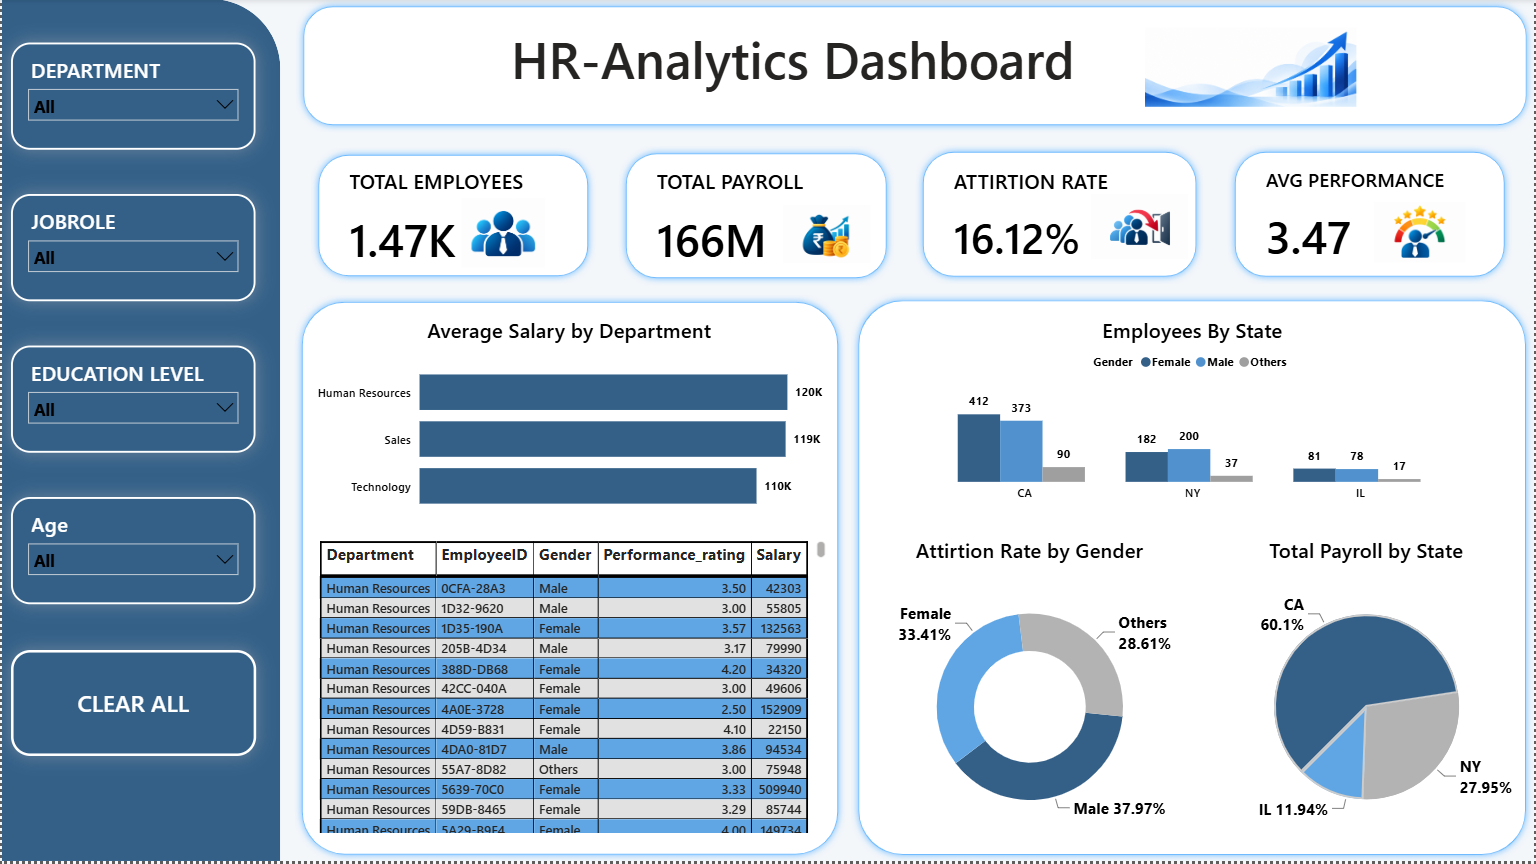

The dashboard page shown, as its layout file describes it:
{"tool":"powerbi","page":{"name":"Page 1","canvas":[1600,900],"ordinal":0},"visuals":[{"type":"shape","box":[0,0,290.6,900],"z":0},{"type":"shape","box":[304.7,0,1295.2,140.1],"z":0,"group":"g6"},{"type":"shape","box":[1279.8,151.5,297.2,145.7],"z":0,"group":"g1"},{"type":"shape","box":[954.1,152.5,300.9,145.7],"z":0,"group":"g2"},{"type":"shape","box":[643.6,152.8,287.7,145.7],"z":0,"group":"g3"},{"type":"shape","box":[322.6,155.1,297.2,142],"z":0,"group":"g4"},{"type":"shape","box":[305,306.7,577.8,592.3],"z":0,"group":"g5"},{"type":"group","id":"g1","title":"Group 2","box":[1279.8,151.5,297.2,145.7],"z":6,"group":"g10"},{"type":"group","id":"g2","title":"Group 2","box":[954.1,152.5,300.9,145.7],"z":6,"group":"g9"},{"type":"group","id":"g3","title":"Group 2","box":[643.6,152.8,287.7,145.7],"z":6,"group":"g8"},{"type":"group","id":"g4","title":"Group 2","box":[322.6,155.1,297.2,142],"z":6,"group":"g7"},{"type":"group","id":"g5","title":"Group 2","box":[305,306.7,577.8,592.3],"z":6,"group":"g12"},{"type":"group","id":"g6","title":"Group 2","box":[304.7,0,1295.2,140.1],"z":1000,"group":"g11"},{"type":"group","id":"g7","title":"Group 1","box":[322.6,155.1,297.2,142],"z":1000},{"type":"cardVisual","fields":{"Data":["Employee_measure_table.Performance_rating"]},"box":[1290.5,156.5,248.4,140.8],"z":1000,"group":"g1"},{"type":"cardVisual","fields":{"Data":["Employee_measure_table.Attirtion_rate"]},"box":[964.9,157.5,251.6,140.8],"z":1000,"group":"g2"},{"type":"cardVisual","fields":{"Data":["Employee_measure_table.Total_Payroll"]},"box":[653.9,157.8,240.5,140.8],"z":1000,"group":"g3"},{"type":"cardVisual","fields":{"Data":["Employee_measure_table.Employee_count"]},"box":[333.3,160,248.4,137.1],"z":1000,"group":"g4"},{"type":"textbox","box":[405.9,21.3,1156.9,104.6],"z":2000,"group":"g11"},{"type":"group","id":"g8","title":"Group 1","box":[643.6,152.8,287.7,145.7],"z":2000},{"type":"image","box":[1137.3,200,101.6,77.6],"z":2000,"group":"g2"},{"type":"image","box":[1433.3,206,94.6,73.8],"z":2000,"group":"g1"},{"type":"image","box":[816.2,207.2,90.9,73.8],"z":2000,"group":"g3"},{"type":"image","box":[476.1,208.2,94.6,71.9],"z":2000,"group":"g4"},{"type":"group","id":"g9","title":"Group 1","box":[954.1,152.5,300.9,145.7],"z":3000},{"type":"group","id":"g10","title":"Group 1","box":[1279.8,151.5,297.2,145.7],"z":4000},{"type":"slicer","fields":{"Values":["data_employee.Department"]},"box":[9.5,45.4,255.5,111.7],"z":5000},{"type":"slicer","fields":{"Values":["data_employee.JobRole"]},"box":[9.5,195,255.5,111.7],"z":6000},{"type":"slicer","fields":{"Values":["data_employee.Education_level"]},"box":[9.5,361.5,255.5,111.7],"z":7000},{"type":"slicer","fields":{"Values":["data_employee.Age"]},"box":[9.5,520.5,255.5,111.7],"z":8000},{"type":"group","id":"g11","title":"Group 3","box":[304.7,0,1294.6,140.1],"z":9000},{"type":"group","id":"g12","title":"Group 1","box":[305,306.7,577.8,592.3],"z":10000},{"type":"barChart","title":"Average Salary by Department","fields":{"Category":["data_employee.Department"],"Y":["Employee_measure_table.Avg salary"]},"box":[322.8,330.9,539.1,222.7],"z":11000},{"type":"funnel","fields":{"Y":["Employee_measure_table.Employee_count"],"Category":["data_employee.Education_level"]},"box":[422.1,577.3,342.6,213.9],"z":12000}]}

Visuals, with their boxes in screenshot pixels (x1, y1, x2, y2), scaled from the page's 1600x900 canvas onto the 1536x864 screenshot:
shape: <box>0,0,279,863</box>
shape: <box>293,0,1535,134</box>
shape: <box>1229,145,1514,285</box>
shape: <box>916,146,1205,286</box>
shape: <box>618,147,894,287</box>
shape: <box>310,149,595,285</box>
shape: <box>293,294,847,863</box>
"Group 2" group: <box>1229,145,1514,285</box>
"Group 2" group: <box>916,146,1205,286</box>
"Group 2" group: <box>618,147,894,287</box>
"Group 2" group: <box>310,149,595,285</box>
"Group 2" group: <box>293,294,847,863</box>
"Group 2" group: <box>293,0,1535,134</box>
"Group 1" group: <box>310,149,595,285</box>
cardVisual - Employee_measure_table.Performance_rating: <box>1239,150,1477,285</box>
cardVisual - Employee_measure_table.Attirtion_rate: <box>926,151,1168,286</box>
cardVisual - Employee_measure_table.Total_Payroll: <box>628,151,859,287</box>
cardVisual - Employee_measure_table.Employee_count: <box>320,154,558,285</box>
textbox: <box>390,20,1500,121</box>
"Group 1" group: <box>618,147,894,287</box>
image: <box>1092,192,1189,266</box>
image: <box>1376,198,1467,269</box>
image: <box>784,199,871,270</box>
image: <box>457,200,548,269</box>
"Group 1" group: <box>916,146,1205,286</box>
"Group 1" group: <box>1229,145,1514,285</box>
slicer - data_employee.Department: <box>9,44,254,151</box>
slicer - data_employee.JobRole: <box>9,187,254,294</box>
slicer - data_employee.Education_level: <box>9,347,254,454</box>
slicer - data_employee.Age: <box>9,500,254,607</box>
"Group 3" group: <box>293,0,1535,134</box>
"Group 1" group: <box>293,294,847,863</box>
"Average Salary by Department" barChart: <box>310,318,827,531</box>
funnel - Employee_measure_table.Employee_count x data_employee.Education_level: <box>405,554,734,760</box>
